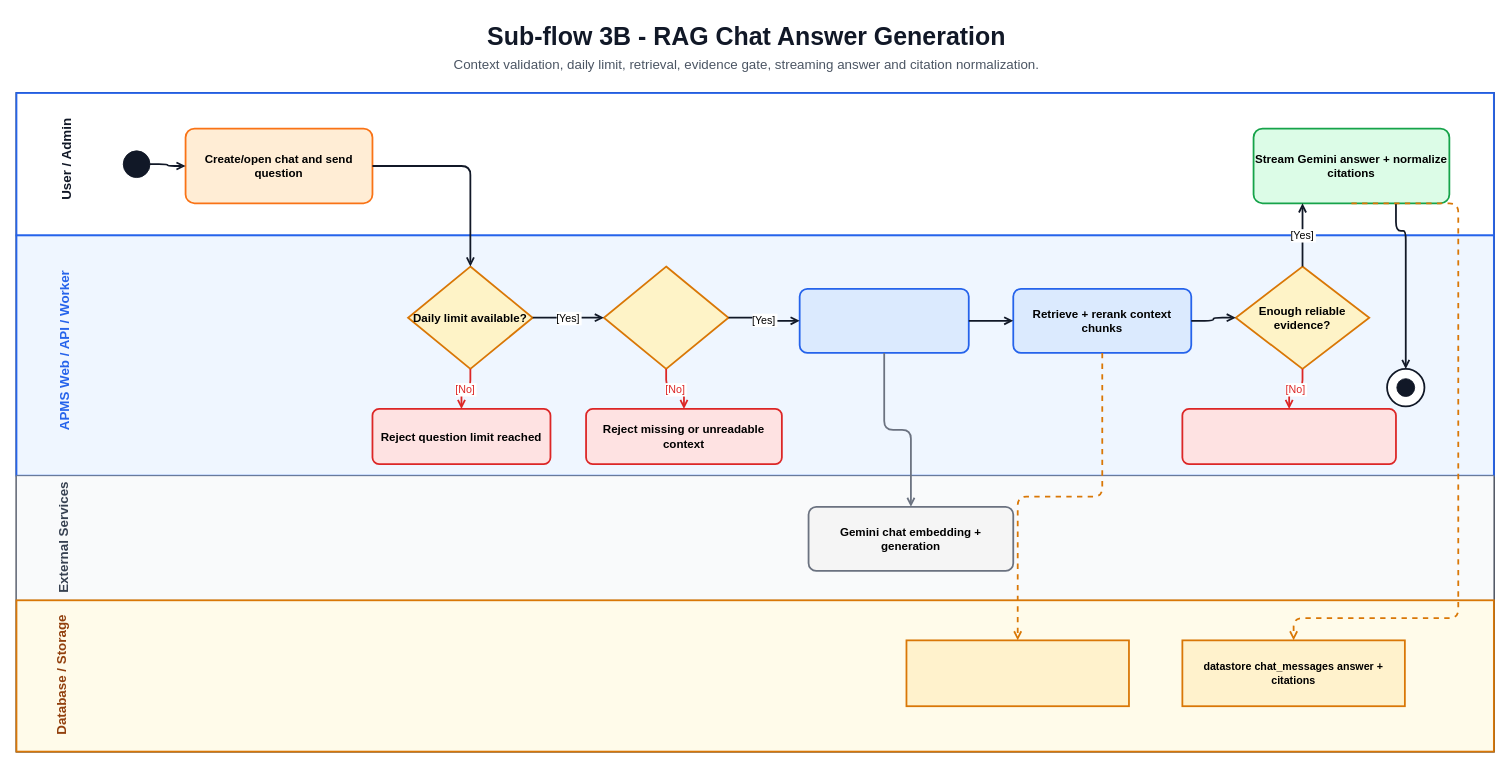
Image size: 1509x767. Some labels were removed from this diagram. The box of each missing label's shape, as (x1, y1, x2, y2) in pixels:
Answer not enough information in documents: (1181, 408, 1396, 465)
Context still readable?: (603, 265, 729, 369)
datastore document_chunks retrieved evidence: (905, 639, 1129, 707)
Rewrite query and create variants: (798, 287, 969, 353)
